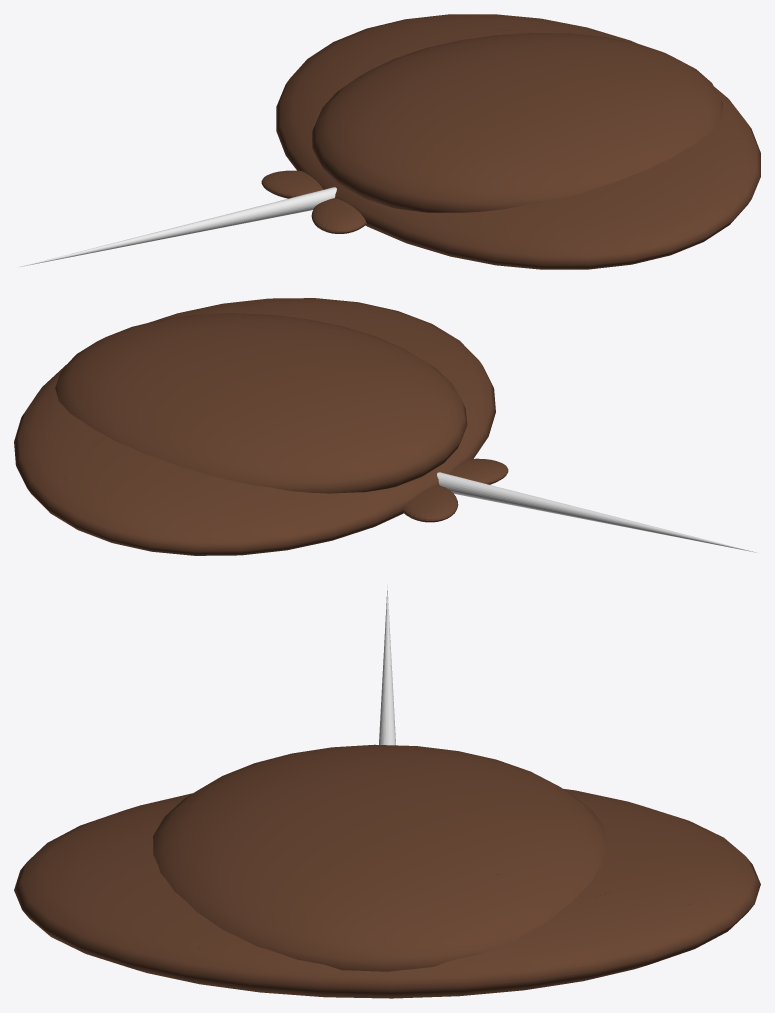
Rendered from stingray.gltf.
3 views of the same model, one above another, from view 1: azimuth 30°, elevation 25°; view 2: azimuth 150°, elevation 25°; view 3: azimuth 270°, elevation 25° (orthographic). The views are drawn at different scales.
Visible parts, largest first — view 1: body, tail; view 2: body, tail; view 3: body, tail.
Part boxes in pixels (x1,y1,x2,y2): body: (261,14,760,269); tail: (17,187,336,267); body: (14,298,508,555); tail: (437,472,757,552); body: (14,744,760,998); tail: (379,584,395,745).
Size of the model in its own units: 3.34 by 0.4502 by 2.49.
1 material, 1 textured.
